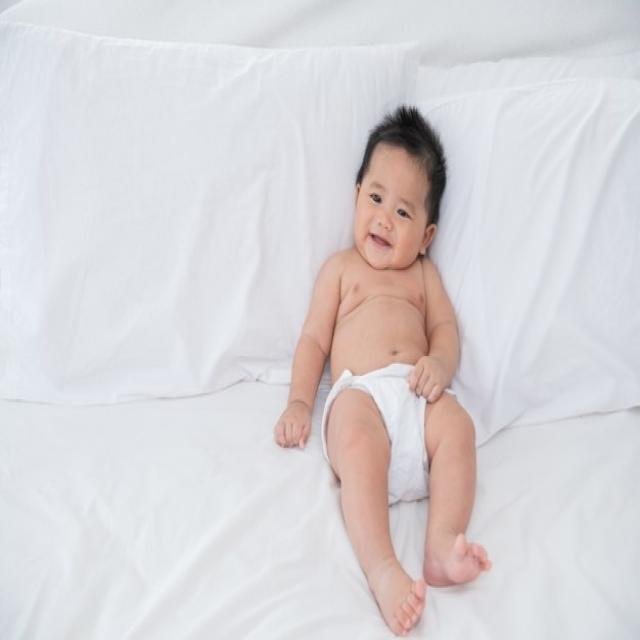non-dog: (274, 106, 490, 632)
